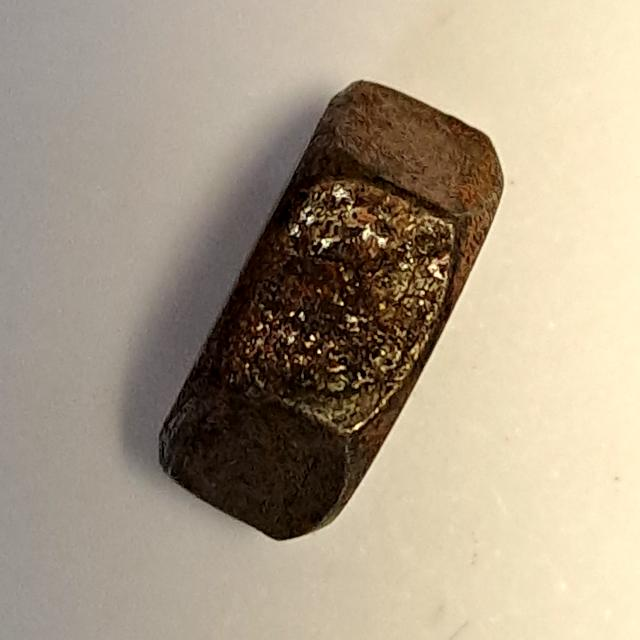Side_Rust: (145, 53, 514, 559)
